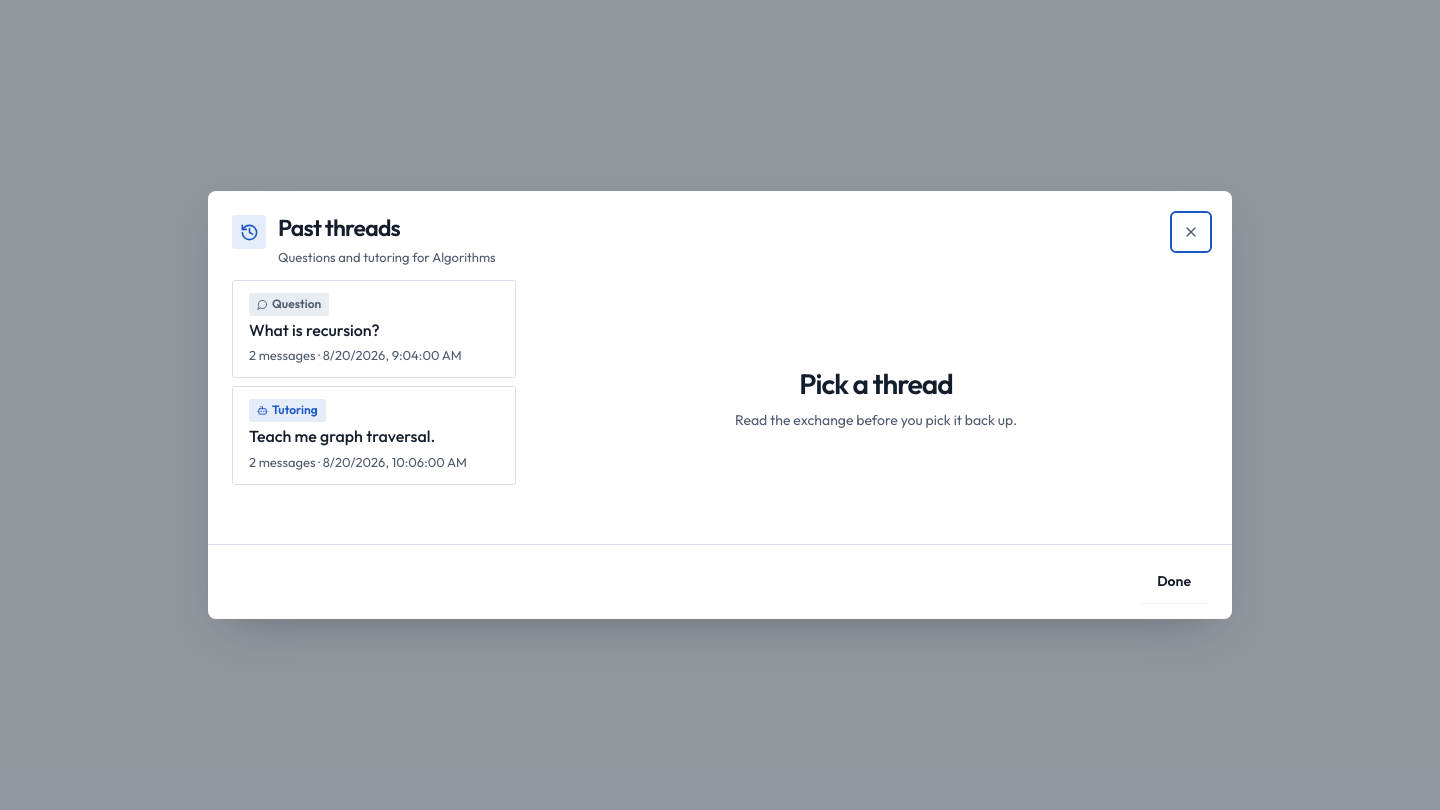
ConversationHistoryModal › lists both conversation types and loads the selected detail
The width and height of the screenshot is (1440, 810).
Expected: the text "Question" is shown, [249, 293, 329, 316]
Expected: the text "Tutoring" is shown, [249, 399, 326, 422]
Click the button with aria-label "Tutoring 18" at [374, 436], box [232, 386, 516, 485]
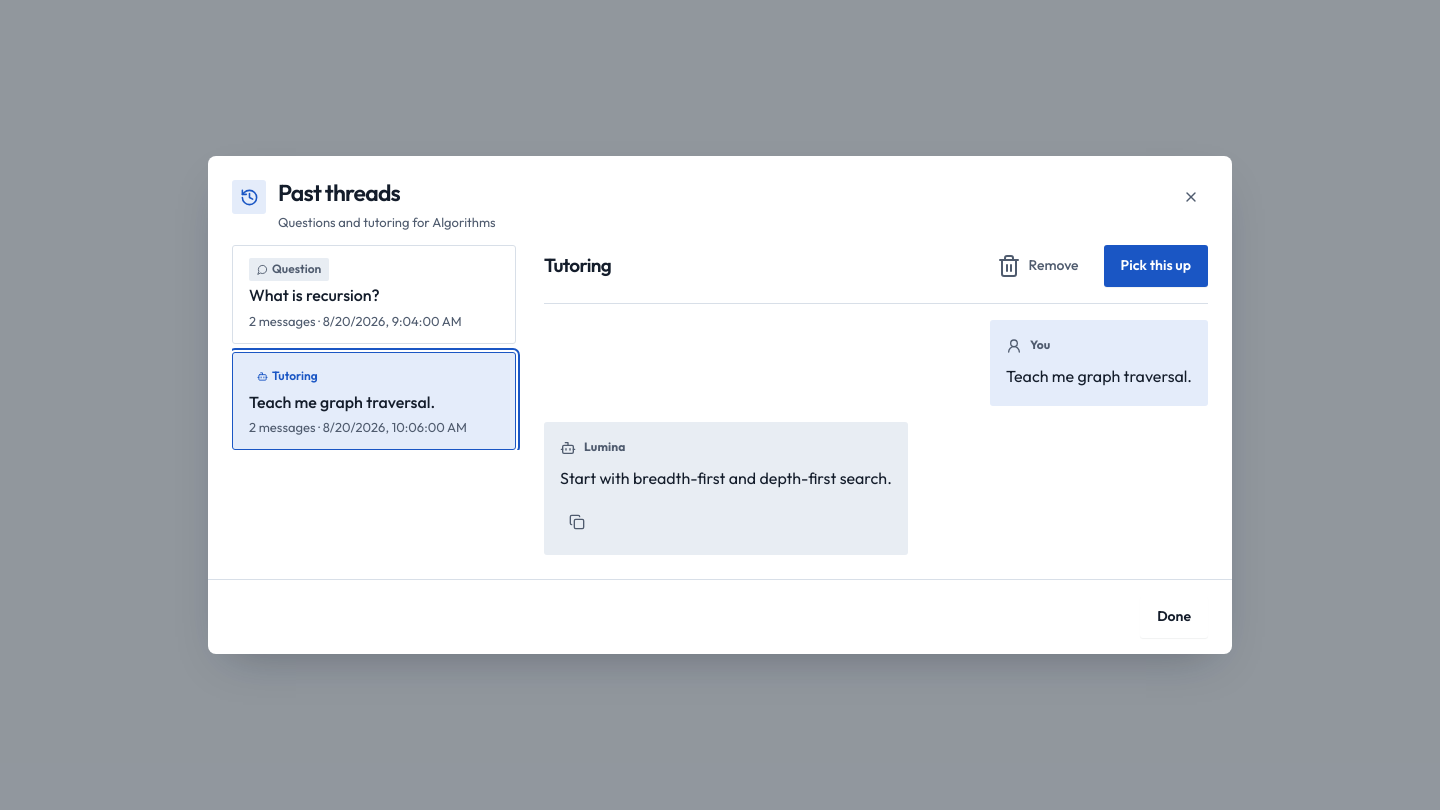
Expected: the text "Teach me graph traversal." is shown 2 times, [249, 392, 435, 413]; [1006, 363, 1192, 390]
Result: the text "Start with breadth-first and depth-first search." is shown at [560, 465, 892, 492]
